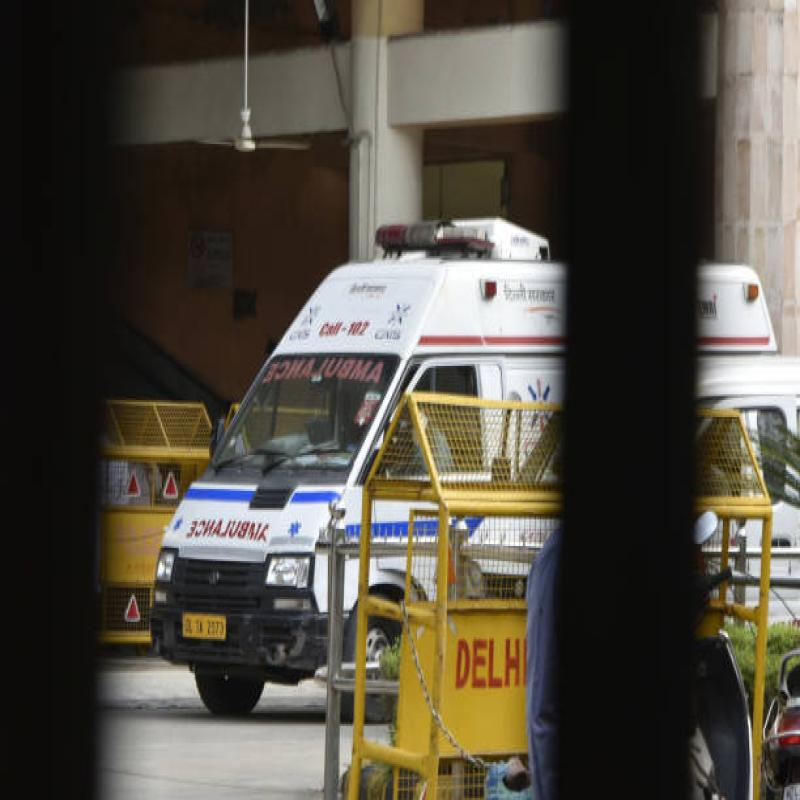AmbulanceSiren: (125, 194, 800, 761), (368, 209, 490, 264)
